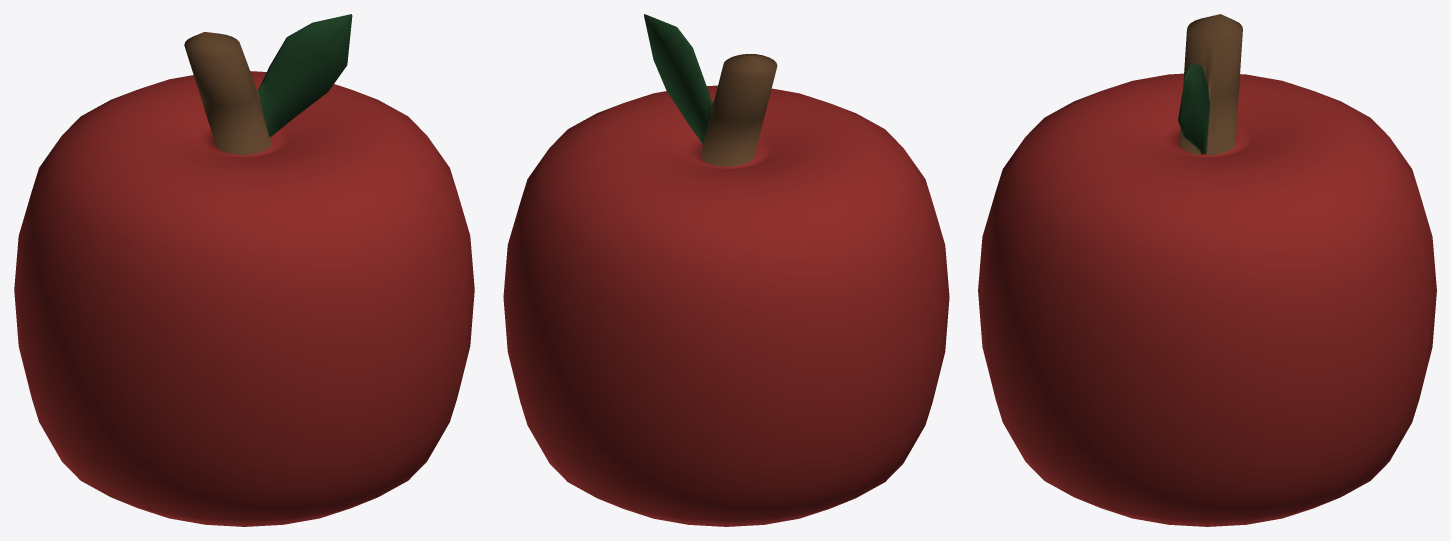
Rendered from Apple 3D Model.fbx.
3 renders of one model, left to right at view 1: azimuth 30°, elevation 25°; view 2: azimuth 150°, elevation 25°; view 3: azimuth 270°, elevation 25°, orthographic. The views are drawn at different scales.
Visible parts, largest first — view 1: Apple.001; view 2: Apple.001; view 3: Apple.001.
Part boxes in pixels (x1=…): Apple.001: x1=14, y1=14, x2=474, y2=526; Apple.001: x1=503, y1=14, x2=949, y2=526; Apple.001: x1=978, y1=14, x2=1436, y2=526.
Bounding box in the file's own units: 65.47 × 69.13 × 65.47.
